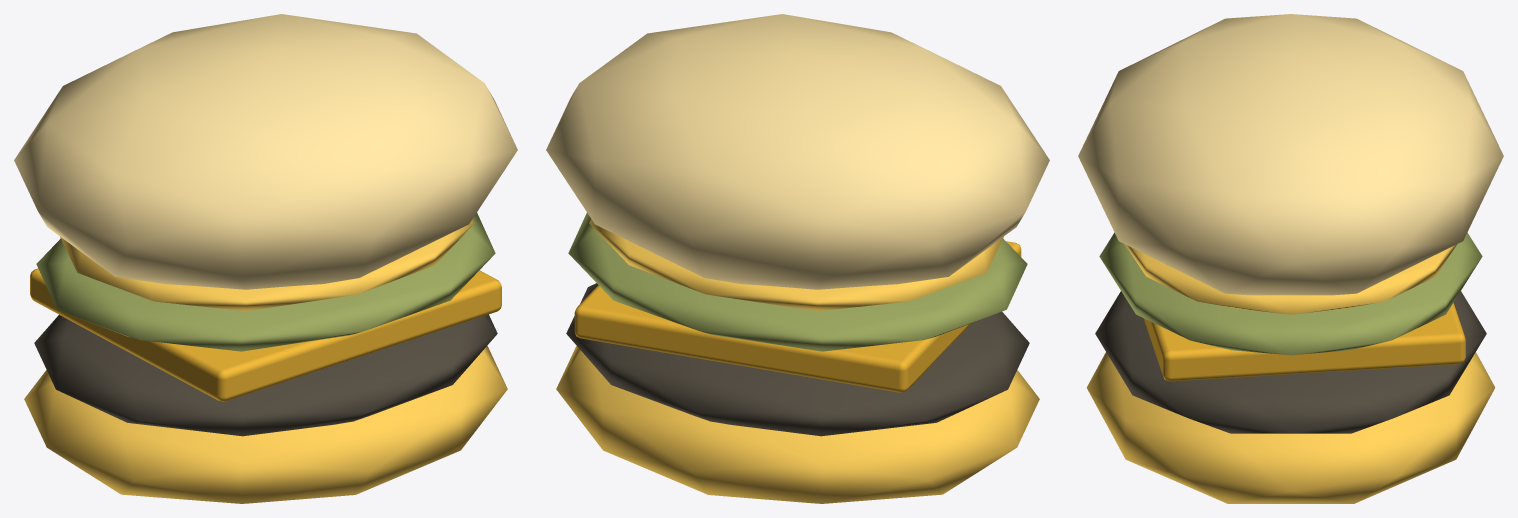
Rendered from mall-burger.glb.
The picture shows the model from 3 angles, left to right: view 1: azimuth 30°, elevation 25°; view 2: azimuth 150°, elevation 25°; view 3: azimuth 270°, elevation 25°; orthographic projection. The views are drawn at different scales.
Visible parts, largest first — view 1: top-bun, bottom-bun, patty, lettuce, cheese, tomato; view 2: top-bun, bottom-bun, patty, lettuce, cheese, tomato; view 3: top-bun, bottom-bun, patty, lettuce, cheese, tomato.
Part boxes in pixels (box(x1,y1,x2,y2)): top-bun: box(14, 14, 517, 289); bottom-bun: box(24, 345, 507, 503); patty: box(34, 314, 497, 436); lettuce: box(36, 213, 495, 351); cheese: box(30, 268, 501, 401); tomato: box(60, 219, 474, 311); top-bun: box(546, 14, 1049, 289); bottom-bun: box(556, 345, 1039, 503); patty: box(566, 283, 1029, 436); lettuce: box(568, 213, 1027, 351); cheese: box(574, 241, 1021, 392); tomato: box(589, 219, 1003, 311); top-bun: box(1078, 14, 1503, 295); bottom-bun: box(1086, 352, 1495, 503); patty: box(1095, 291, 1486, 433); lettuce: box(1099, 232, 1482, 355); cheese: box(1144, 303, 1465, 381); tomato: box(1124, 244, 1457, 314).
Bounding box in the file's own units: 1.2 × 1.03 × 1.
